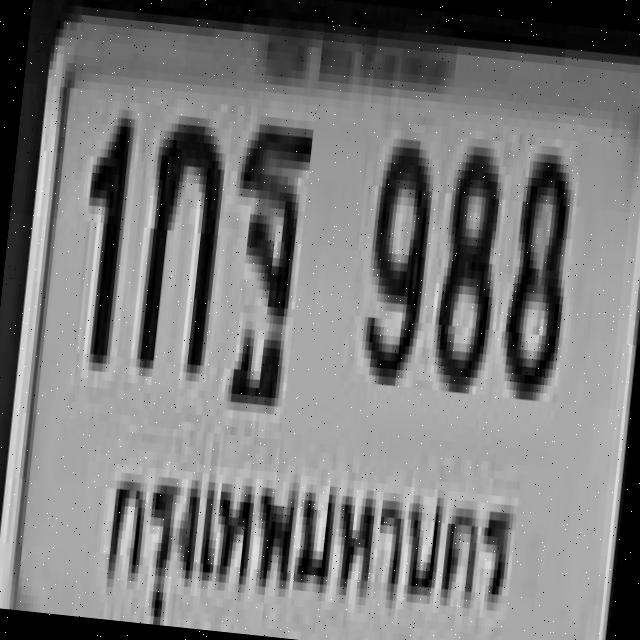1: (69, 103, 132, 360)
10GorGai: (132, 110, 226, 370)
25ThorThan: (217, 110, 311, 370)
8: (496, 140, 576, 390), (430, 132, 506, 382)
9: (359, 124, 435, 374)
